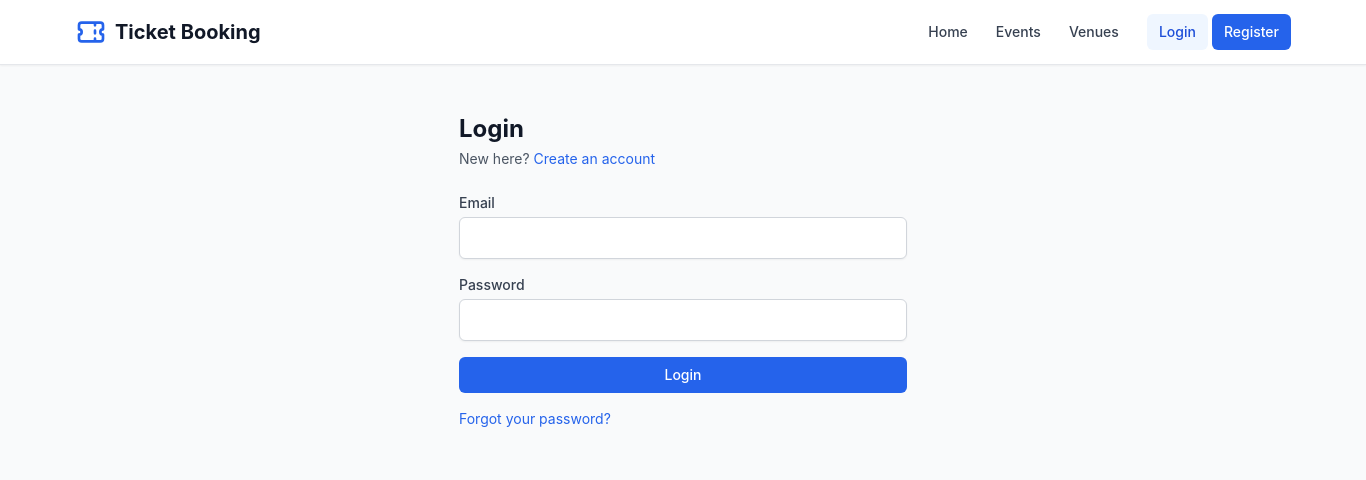
Test: auth pages › shows backend validation errors on the login form
Type "asha@example.com" into the field labelled "Email" at (683,238), box top-left (459, 217), bottom-right (907, 259)
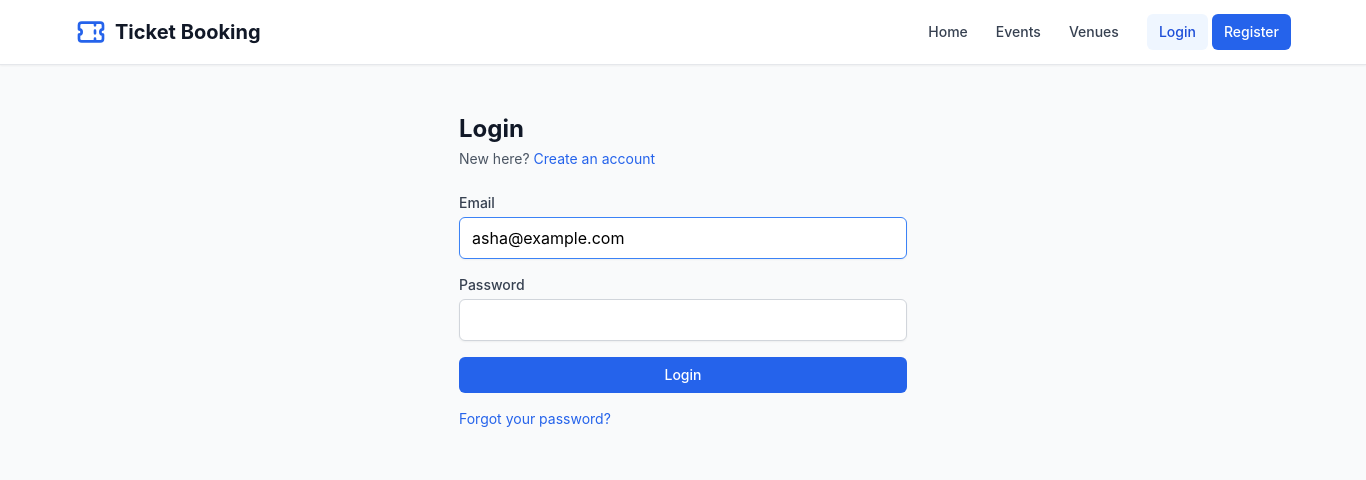
Type "wrong" into the password field labelled "Password" at (683,320), box top-left (459, 299), bottom-right (907, 341)
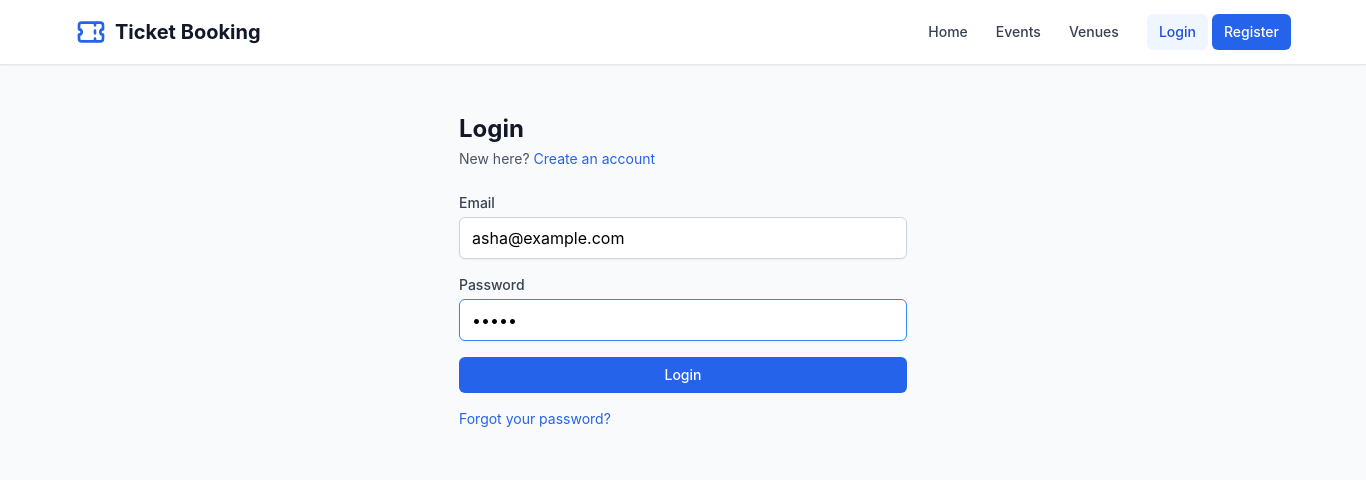
Click the button "Login" at (683,375), box top-left (459, 357), bottom-right (907, 393)
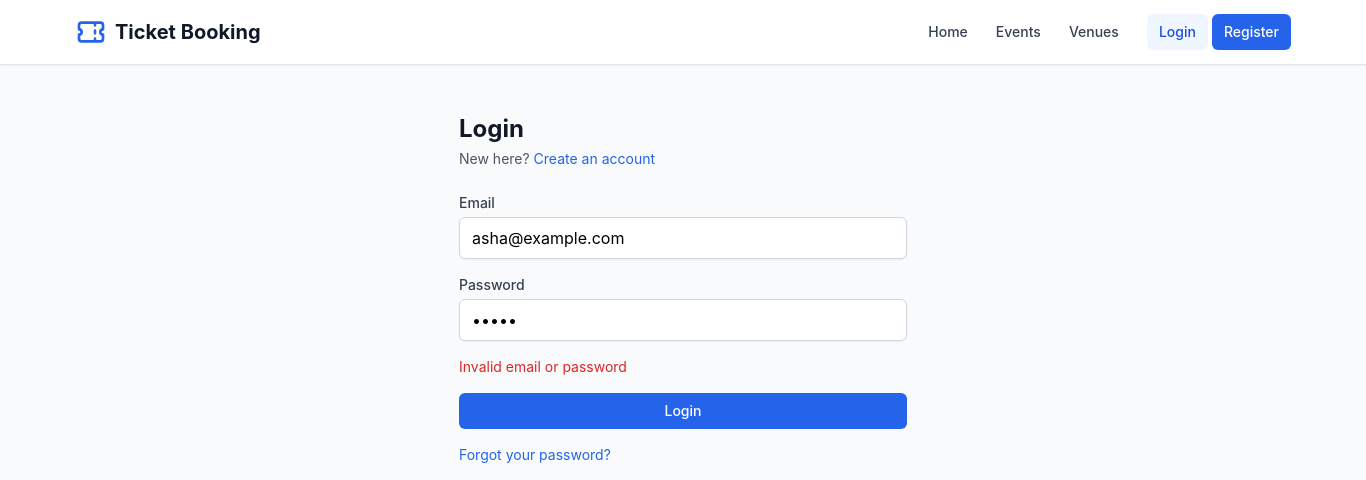
Now the message reads "Invalid email or password", box top-left (459, 358), bottom-right (627, 375)
